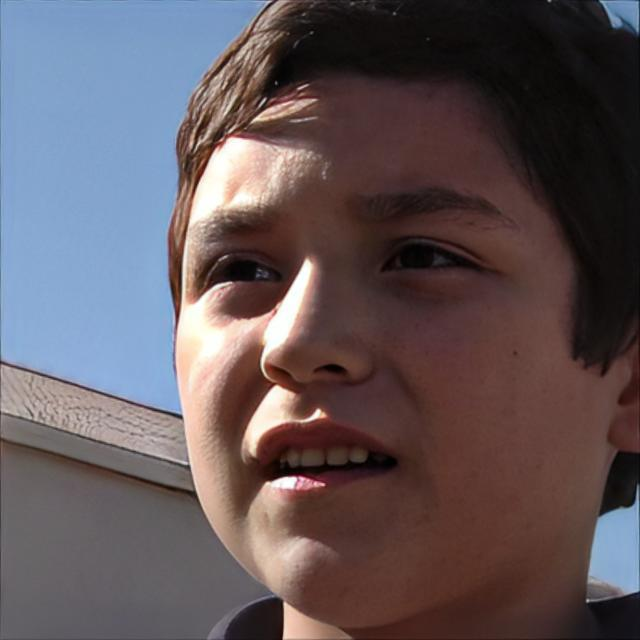disgust: (172, 54, 612, 628)
